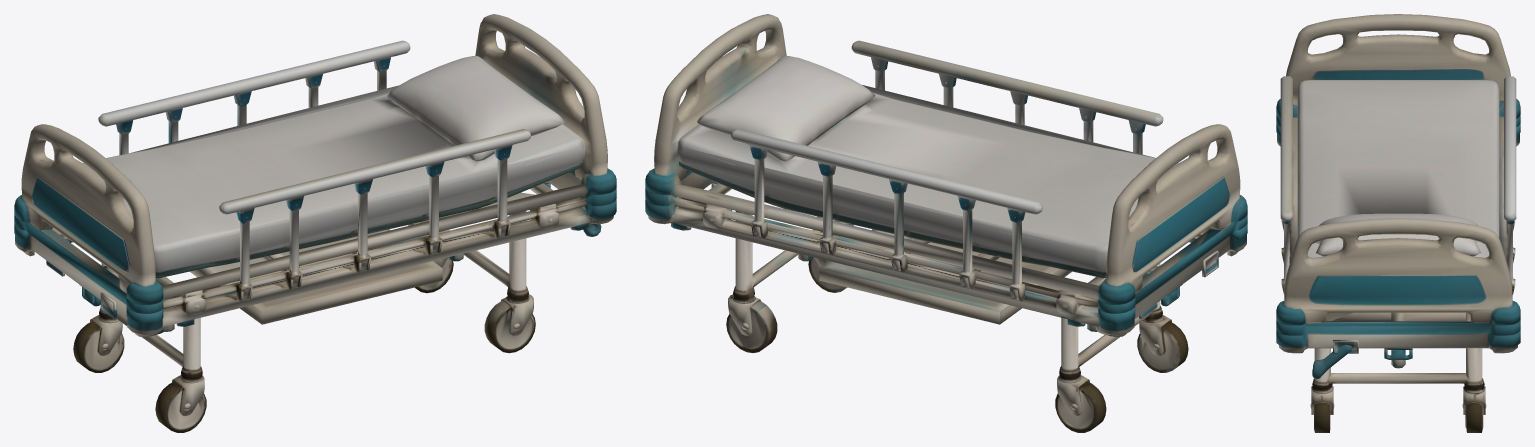
Rendered from Medical__a_hospital_gurney_536b823b_v1.cluster.glb.
3 views of the same model, side by side, from view 1: azimuth 30°, elevation 25°; view 2: azimuth 150°, elevation 25°; view 3: azimuth 270°, elevation 25° (orthographic). The views are drawn at different scales.
Visible parts, largest first — view 1: material; view 2: material; view 3: material.
Part boxes in pixels (bbox=[...]): material: bbox=[14, 14, 616, 432]; material: bbox=[645, 14, 1247, 432]; material: bbox=[1276, 14, 1520, 432].
Size of the model in its own units: 1.9 by 0.9939 by 0.9002.
Materials: 1 (1 with a texture image).
